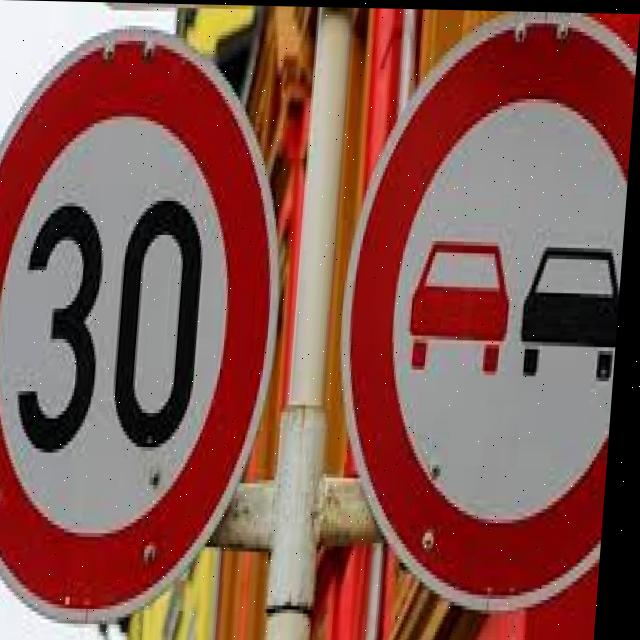Speed limit 30: (1, 24, 303, 628)
